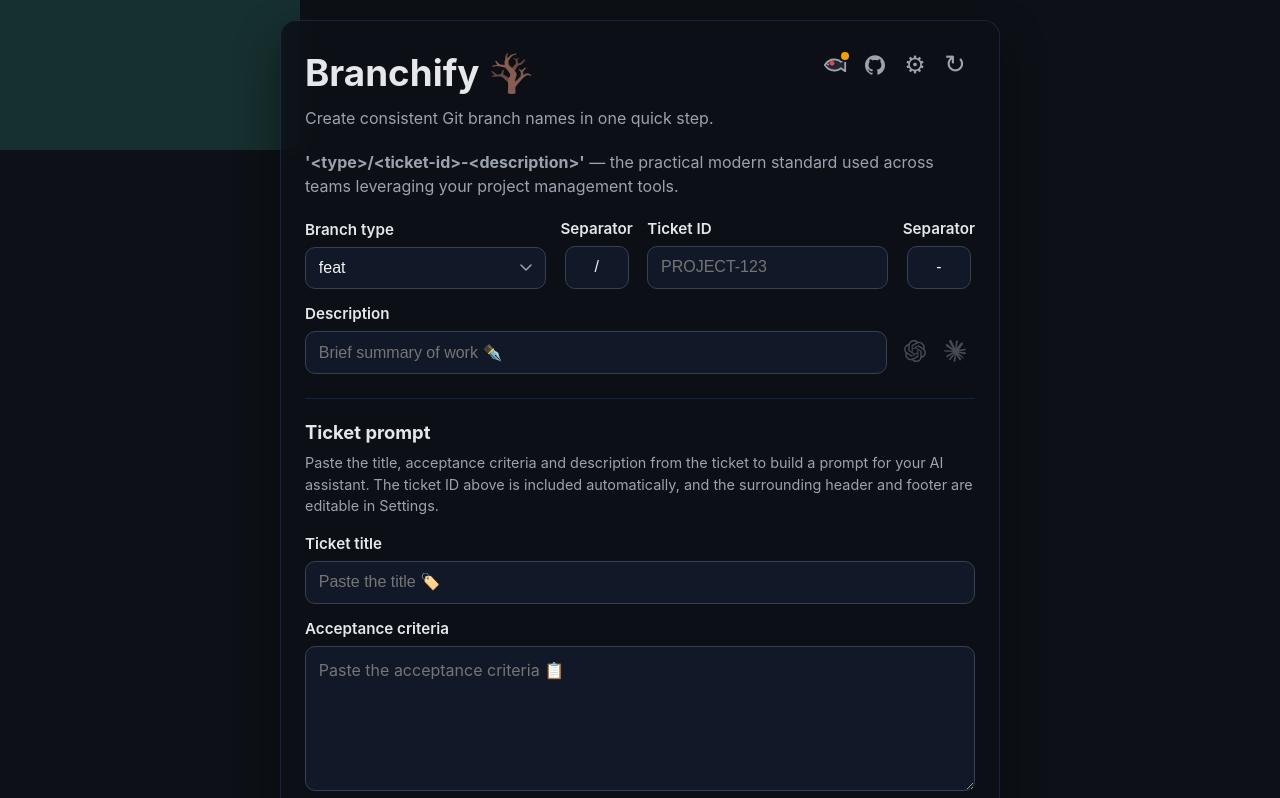
Test: App › ticket prompt › appears once only the title has been filled in
The image size is (1280, 798).
Type "Summary only" into the field labelled "Ticket title" at {"x": 640, "y": 582}, box [305, 561, 975, 604]
(page scrolled)
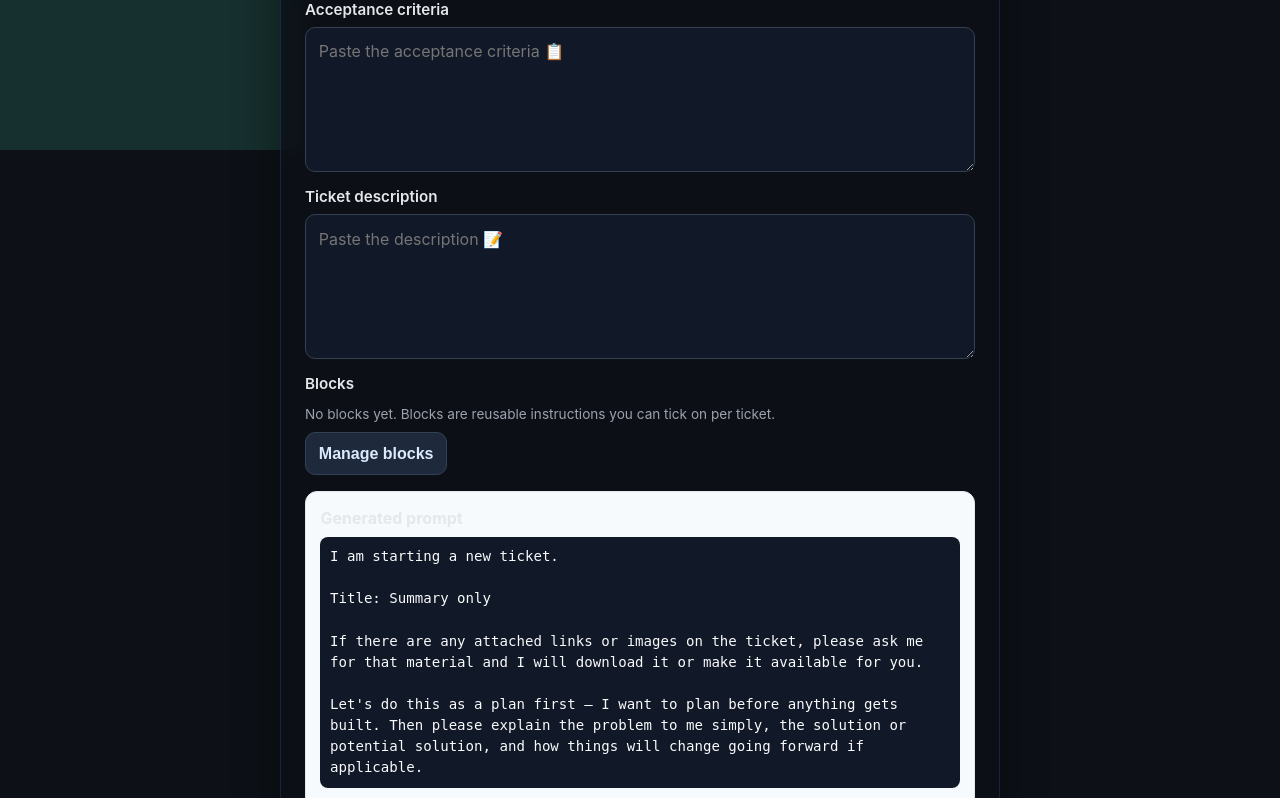
Now the element "Generated prompt" shows "Title: Summary only", box [330, 548, 932, 775]
